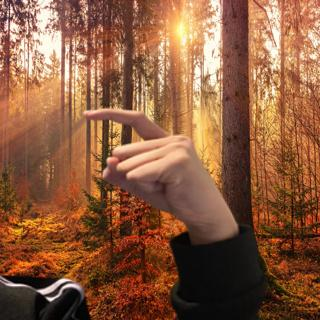WHY: (79, 101, 232, 232)
